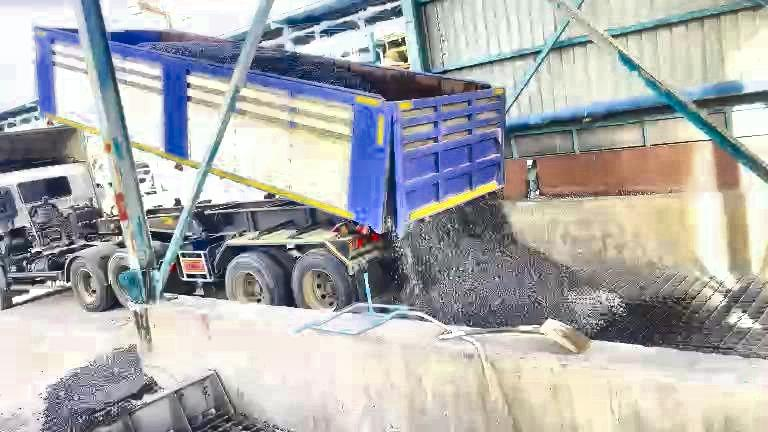gravel: (396, 193, 618, 333), (42, 345, 146, 431), (252, 47, 375, 92), (138, 42, 241, 64)
